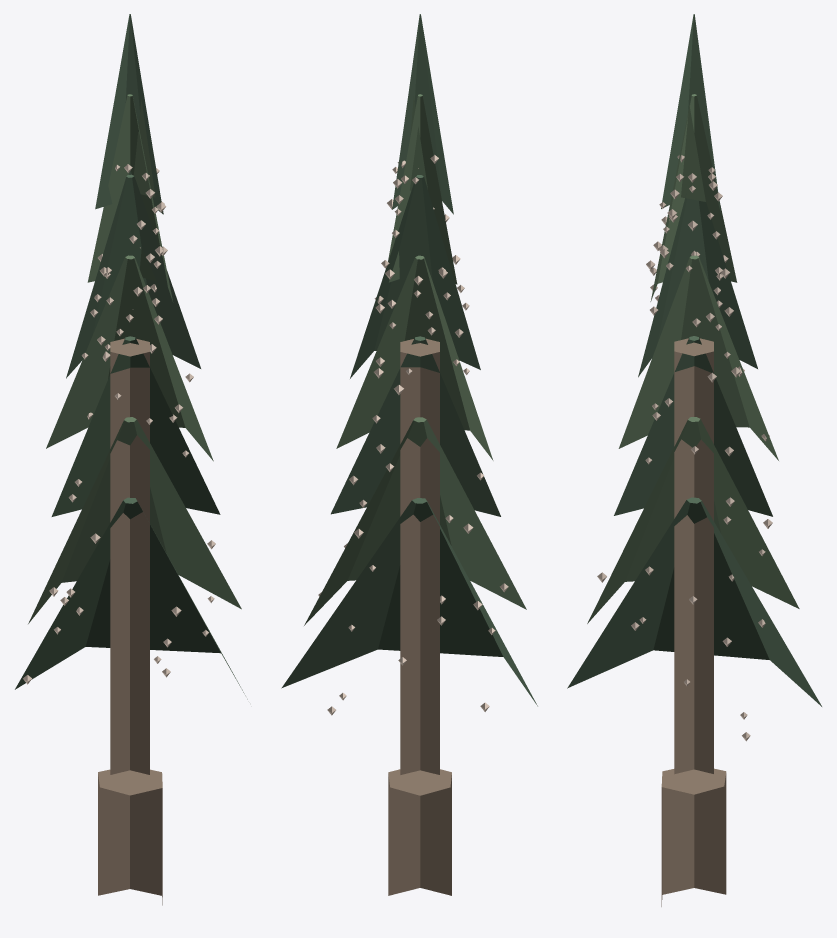
File: shu.yunshan__bloom.glb
3 views of the same model, side by side, from view 1: azimuth 30°, elevation 25°; view 2: azimuth 150°, elevation 25°; view 3: azimuth 270°, elevation 25° (orthographic).
Parts seen in each view (by area): view 1: shu.yunshan__bloom; view 2: shu.yunshan__bloom; view 3: shu.yunshan__bloom.
Boxes of the visible parts, x1=… form: shu.yunshan__bloom: x1=15, y1=14, x2=247, y2=905; shu.yunshan__bloom: x1=281, y1=14, x2=537, y2=895; shu.yunshan__bloom: x1=567, y1=14, x2=821, y2=906.
Bounding box in the file's own units: 4.5 × 17.97 × 4.69.
